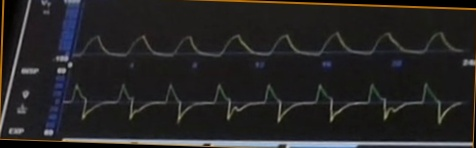Premature_cycling Flow: (67, 74, 466, 129)
Premature_cycling Volume: (79, 18, 463, 61)
